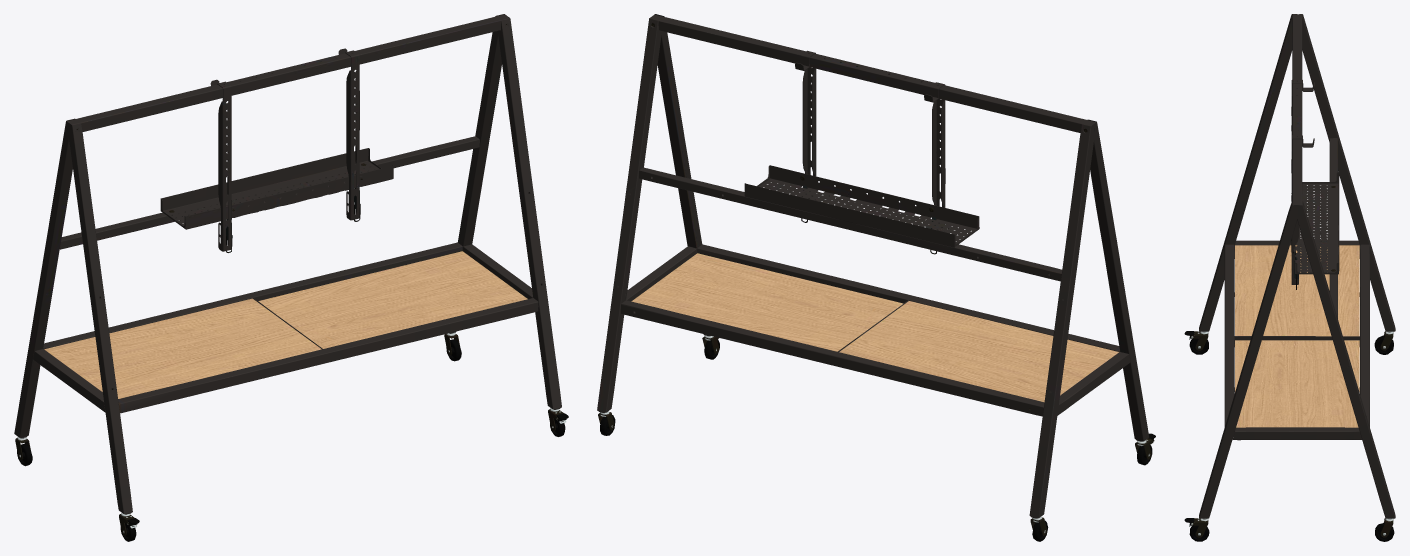
Rendered from yxstaby.glb.
3 renders of one model, left to right at view 1: azimuth 30°, elevation 25°; view 2: azimuth 150°, elevation 25°; view 3: azimuth 270°, elevation 25°, orthographic. The views are drawn at different scales.
Parts seen in each view (by area): view 1: 60620002-YXSTABY001; view 2: 60620002-YXSTABY001; view 3: 60620002-YXSTABY001.
Boxes of the visible parts, left/top/right/bottom form: 60620002-YXSTABY001: left=14, top=14, right=568, bottom=541; 60620002-YXSTABY001: left=597, top=14, right=1155, bottom=541; 60620002-YXSTABY001: left=1184, top=14, right=1395, bottom=541.
Size of the model in its own units: 1.37 by 1.13 by 0.6399.
Materials: 1 (1 with a texture image).
